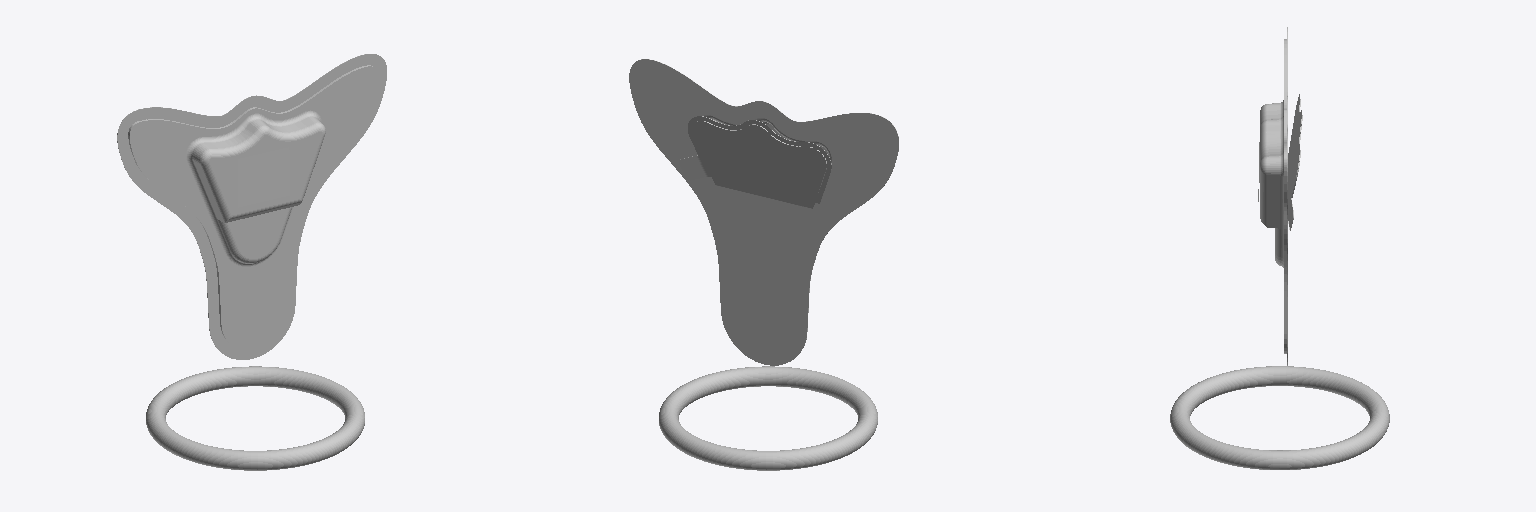
The picture shows the model from 3 angles: view 1: azimuth 30°, elevation 25°; view 2: azimuth 150°, elevation 25°; view 3: azimuth 270°, elevation 25°; orthographic projection.
Visible parts, largest first — view 1: Icone_patch_Inomedis; view 2: Icone_patch_Inomedis; view 3: Icone_patch_Inomedis.
Part boxes in pixels (bbox=[...]): Icone_patch_Inomedis: bbox=[117, 54, 386, 470]; Icone_patch_Inomedis: bbox=[629, 59, 898, 470]; Icone_patch_Inomedis: bbox=[1170, 27, 1389, 469].
Size of the model in its own units: 1.25 by 1.52 by 0.88.